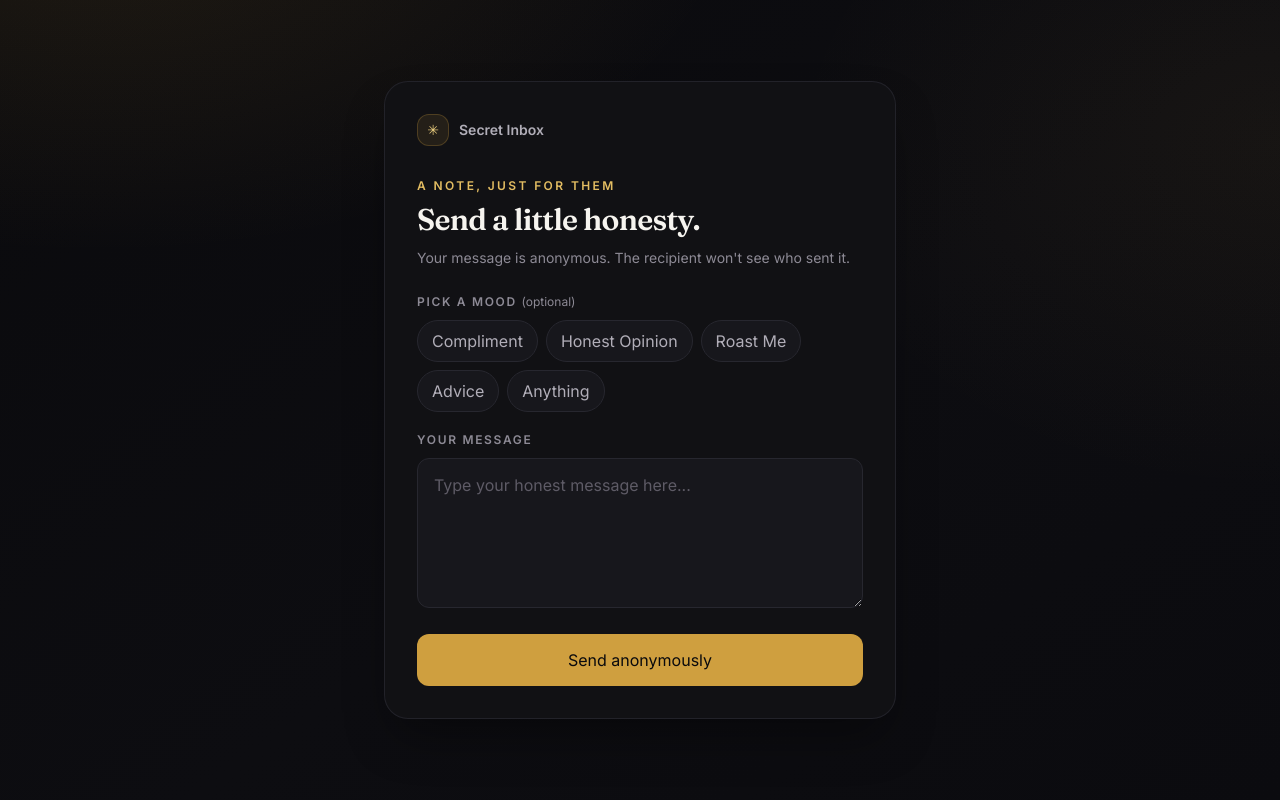
Test: anonymous feedback form › submits the message and selected category
Click the button "Compliment" at (477, 341), box [417,320,538,362]
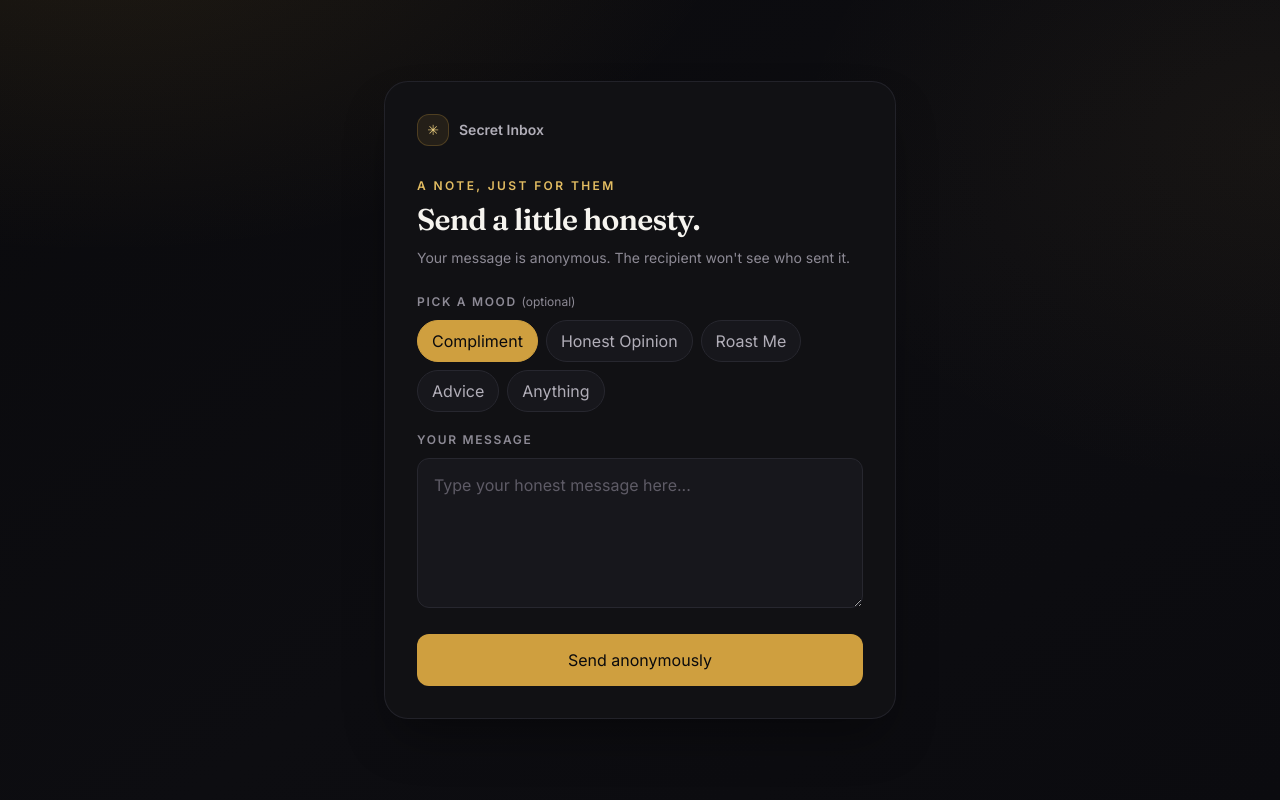
Type "You made my day." into the text box labelled "Your message" at (640, 533), box [417,458,863,608]
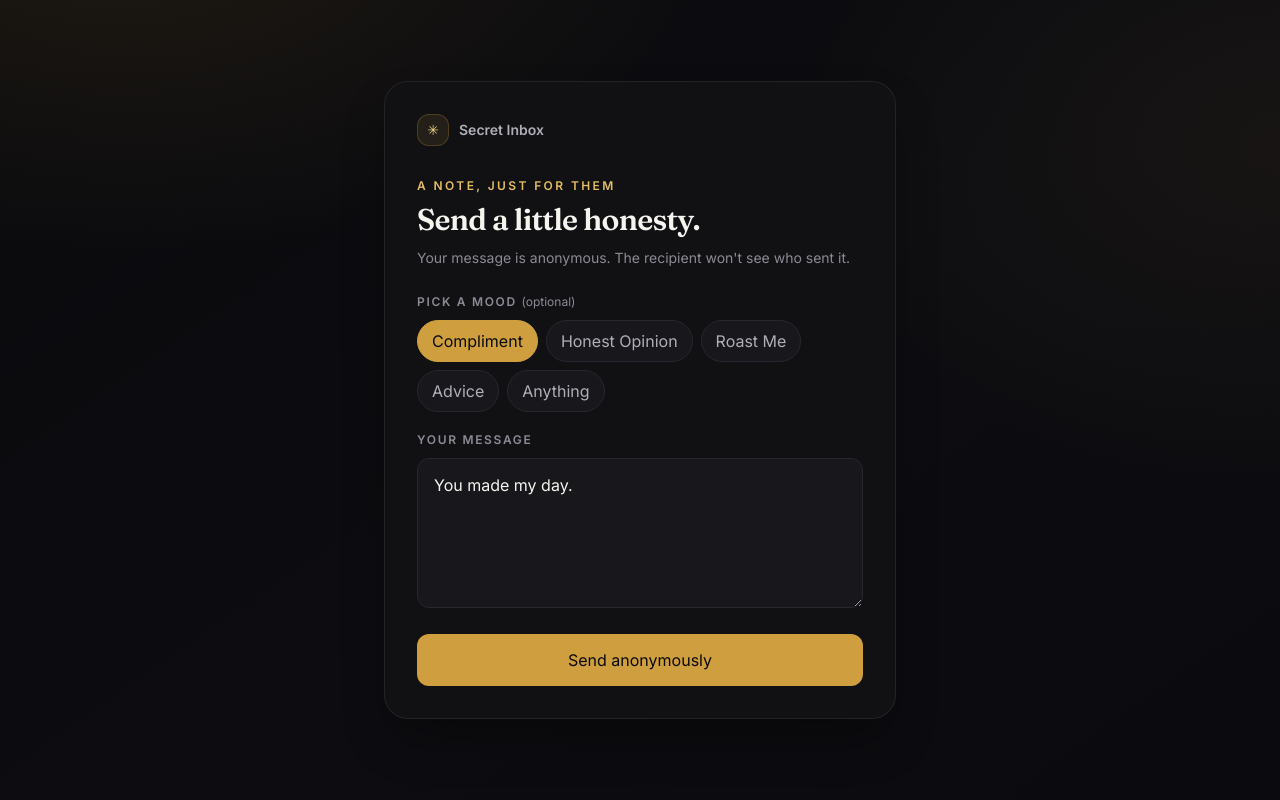
Click the button "Send anonymously" at (640, 660), box [417,634,863,686]
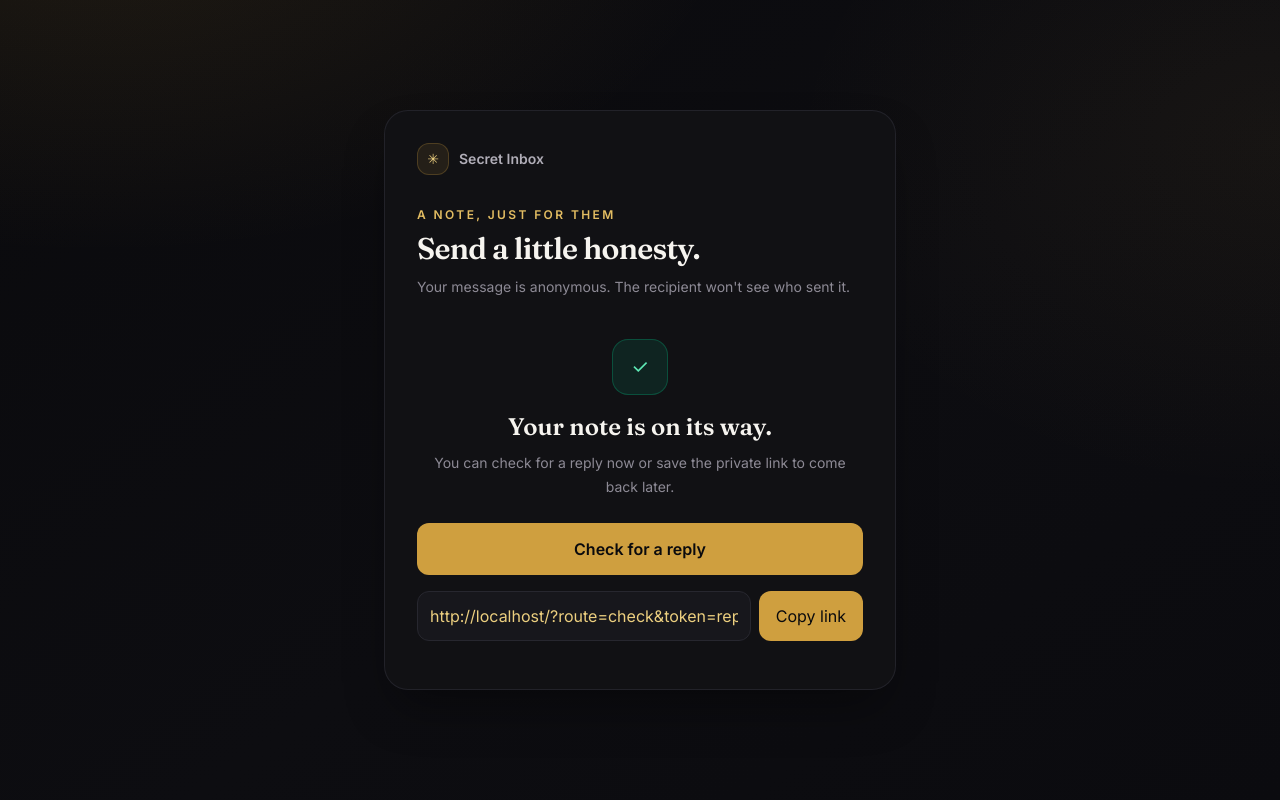
Result: the heading "Your note is on its way." is shown at [508,412,772,441]
